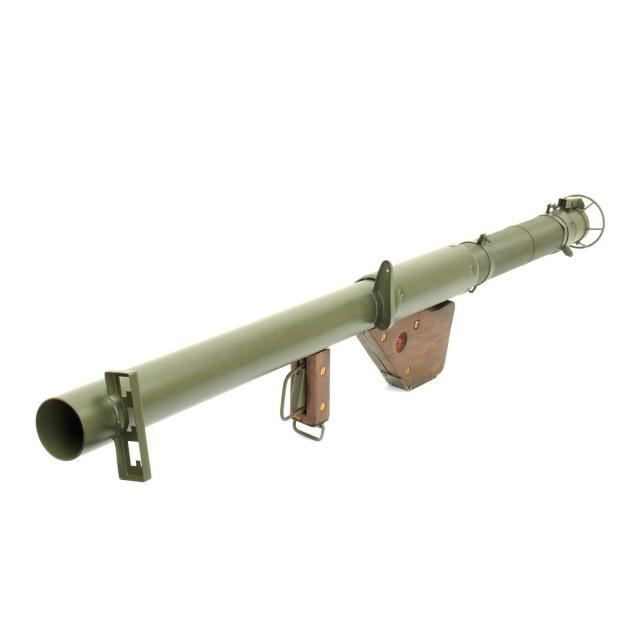weapon: (33, 186, 604, 485)
